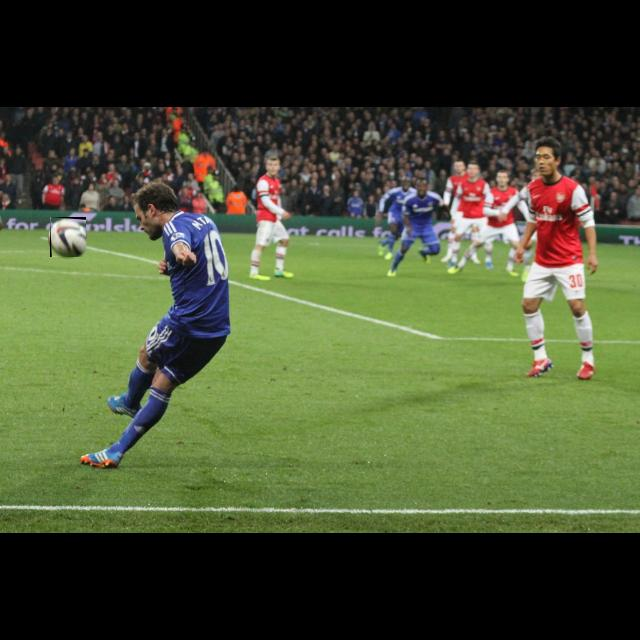Football: (50, 217, 86, 257)
